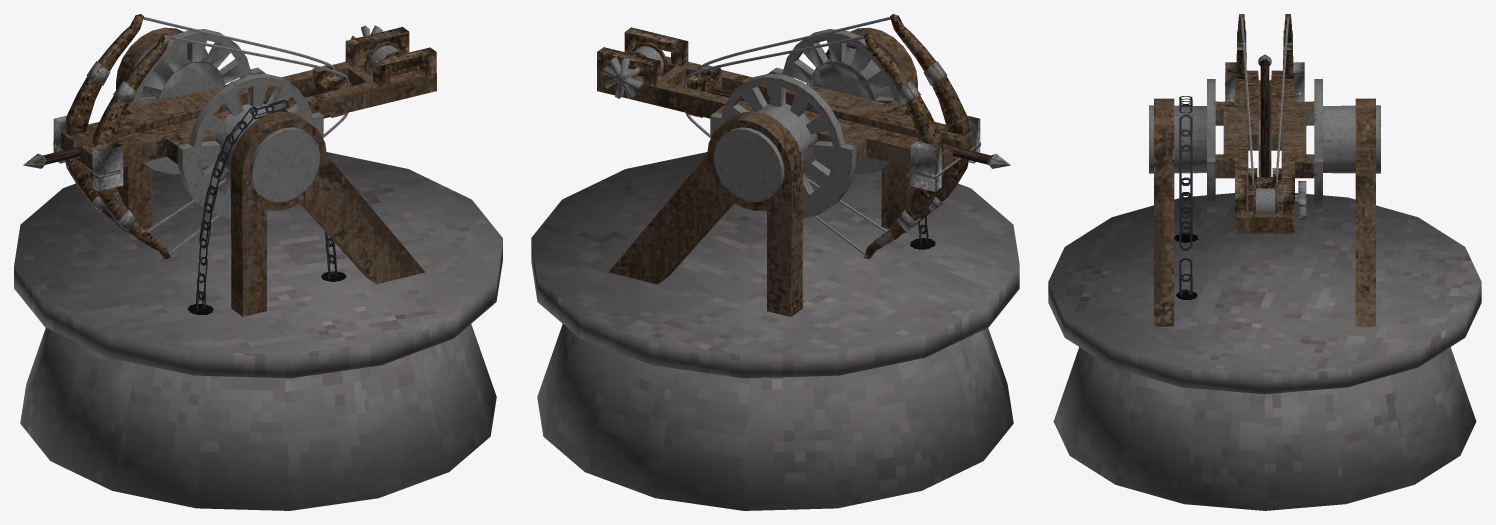
The model's file is Arbalet.fbx.
3 renders of one model, left to right at view 1: azimuth 30°, elevation 25°; view 2: azimuth 150°, elevation 25°; view 3: azimuth 270°, elevation 25°, orthographic. The views are drawn at different scales.
Visible parts, largest first — view 1: Cylinder.002, Cylinder.003; view 2: Cylinder.002; view 3: Cylinder.002, Cylinder.003.
Part boxes in pixels (bbox=[...]): Cylinder.002: bbox=[14, 14, 502, 510]; Cylinder.003: bbox=[196, 99, 337, 311]; Cylinder.002: bbox=[531, 14, 1019, 510]; Cylinder.002: bbox=[1048, 14, 1481, 510]; Cylinder.003: bbox=[1179, 96, 1192, 294].
Size of the model in its own units: 63.43 by 55.47 by 60.35.
Materials: 4 (4 with a texture image).
